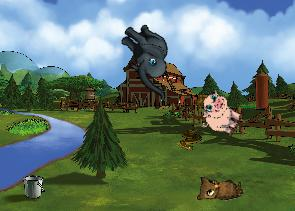elephant: (103, 17, 192, 101)
owl: (193, 168, 244, 205)
pig: (194, 88, 248, 140)
